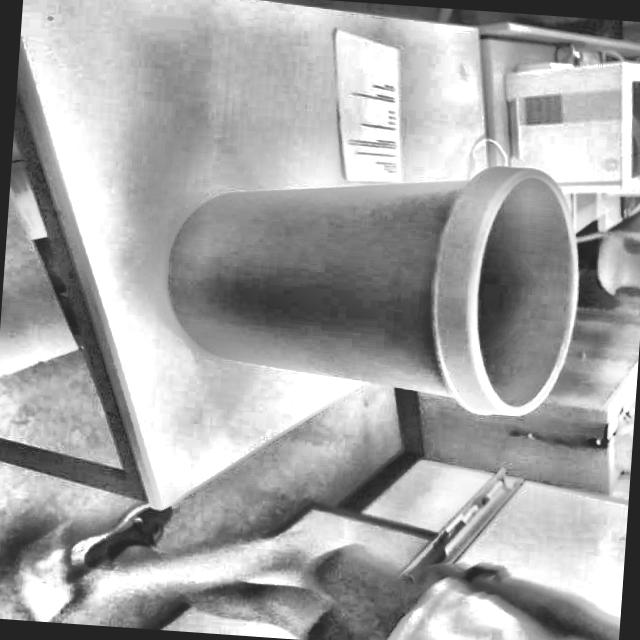Dustbin: (149, 117, 609, 428)
